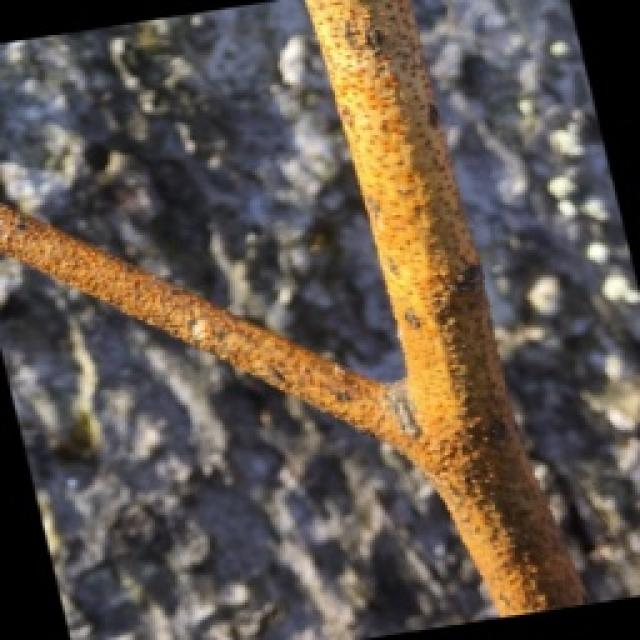Golden_canker: (0, 9, 624, 640)
